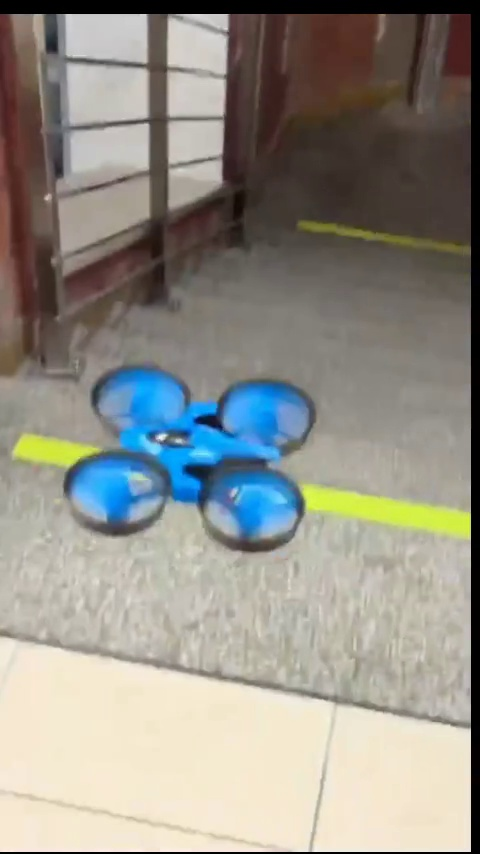drone: (68, 372, 319, 544)
